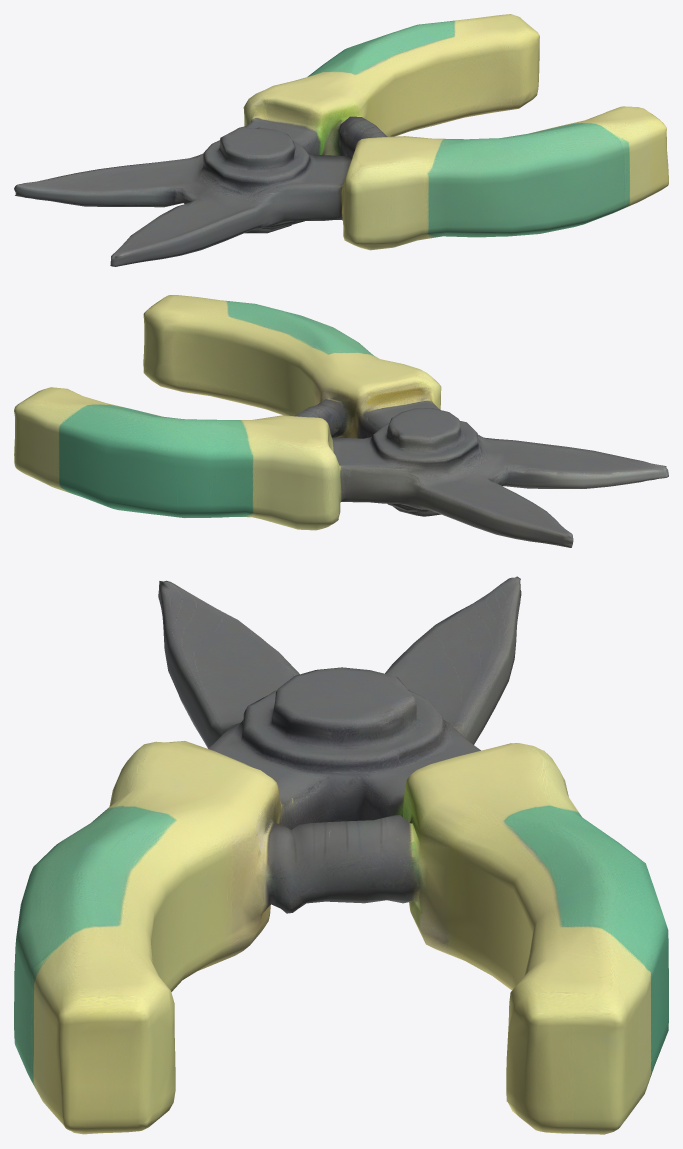
File: item_pruningshears.glb
3 views of the same model, one above another, from view 1: azimuth 30°, elevation 25°; view 2: azimuth 150°, elevation 25°; view 3: azimuth 270°, elevation 25° (orthographic). The views are drawn at different scales.
Size of the model in its own units: 2 by 0.3541 by 1.15.
Materials: 1 (1 with a texture image).
